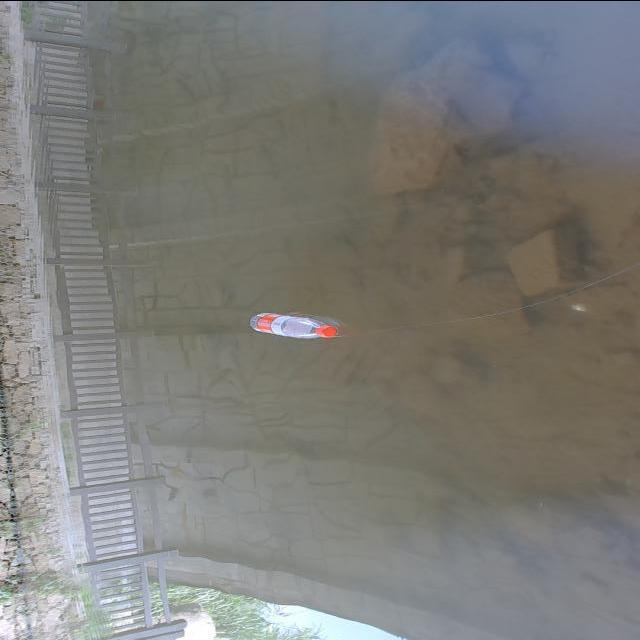Bottle: (248, 302, 344, 349)
